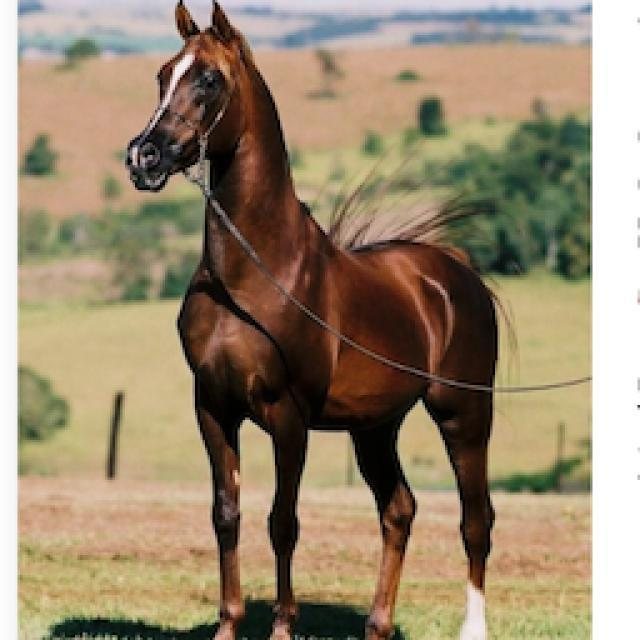Horse: (117, 0, 525, 638)
